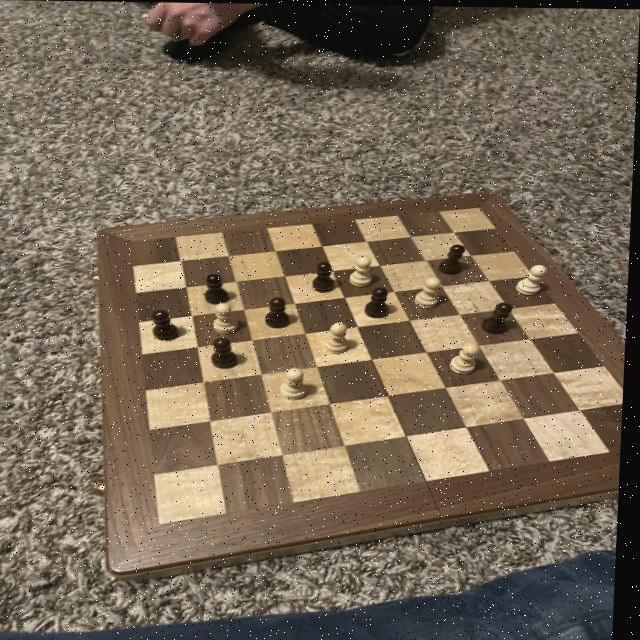black-knight: (150, 308, 188, 342), (482, 301, 519, 333), (212, 337, 246, 371), (203, 269, 235, 304), (311, 259, 341, 294), (440, 242, 472, 274), (366, 284, 395, 319), (268, 294, 295, 329)
white-knight: (448, 338, 485, 375), (411, 274, 447, 308), (517, 260, 551, 296), (281, 365, 314, 400), (326, 320, 356, 356), (350, 254, 378, 287), (215, 301, 243, 333)
